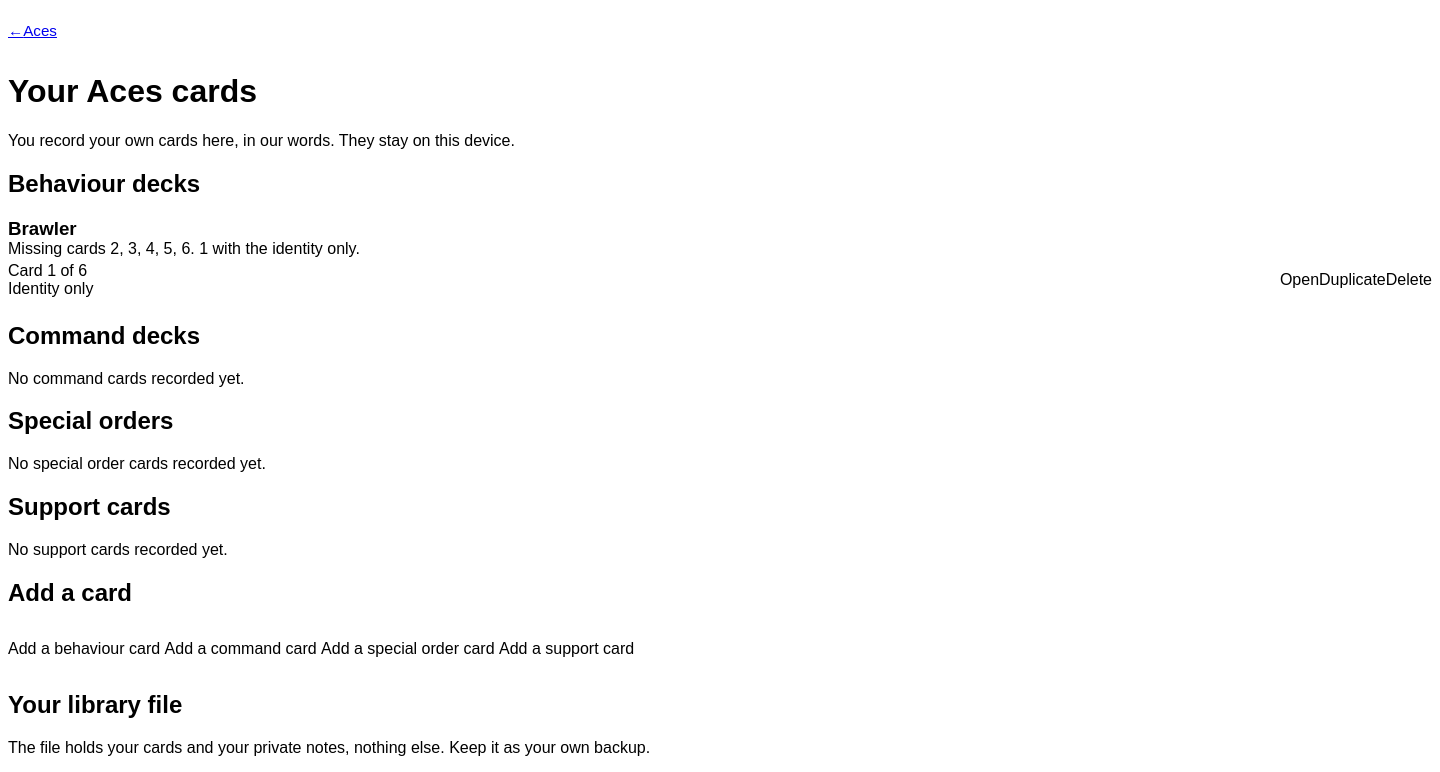
Test case: Aces card pages › asks before it deletes a card and keeps it when told to
The width and height of the screenshot is (1440, 772).
Click the button with aria-label "Delete Brawler card 1": [1409, 280] box x1=1386 y1=258 x2=1432 y2=302
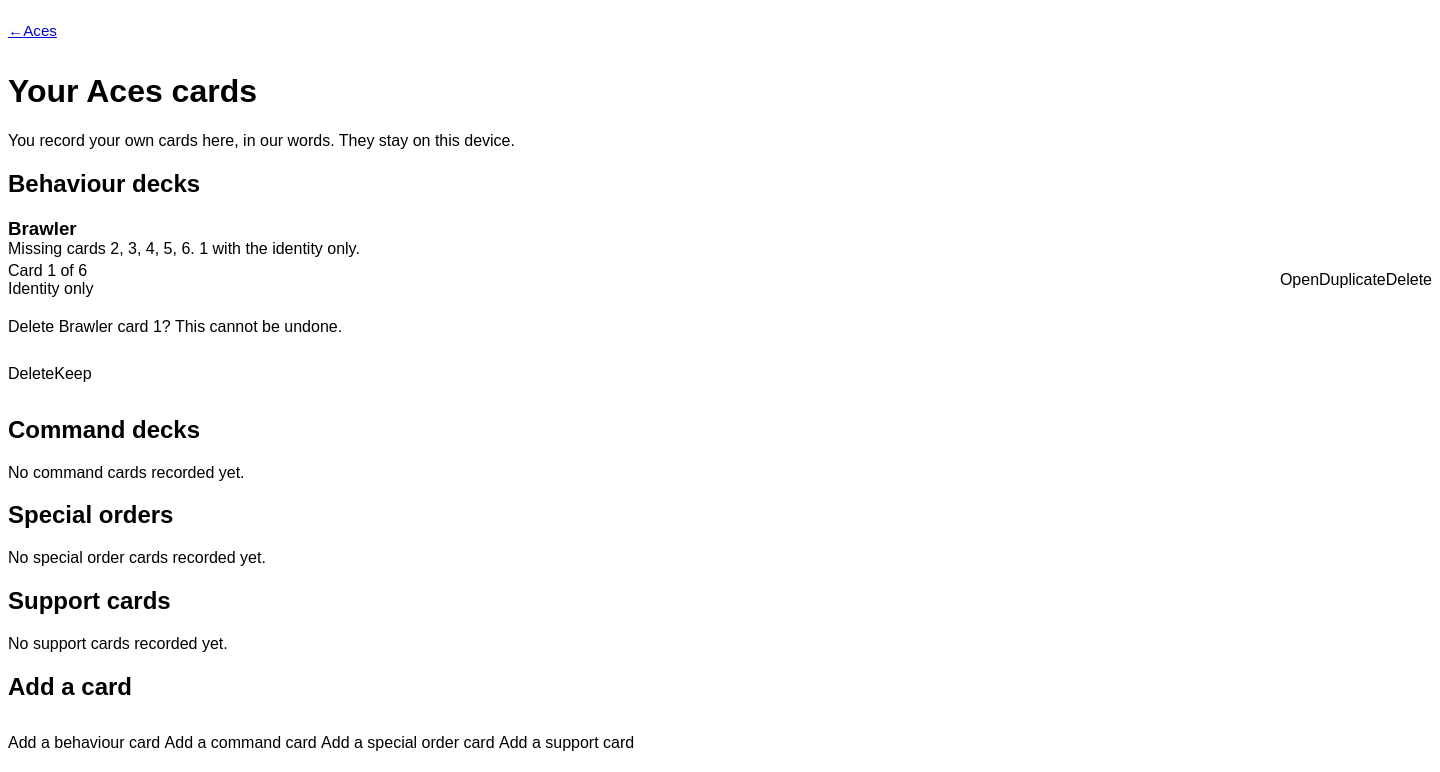
Click the button "Keep": [73, 374] box x1=54 y1=352 x2=92 y2=396
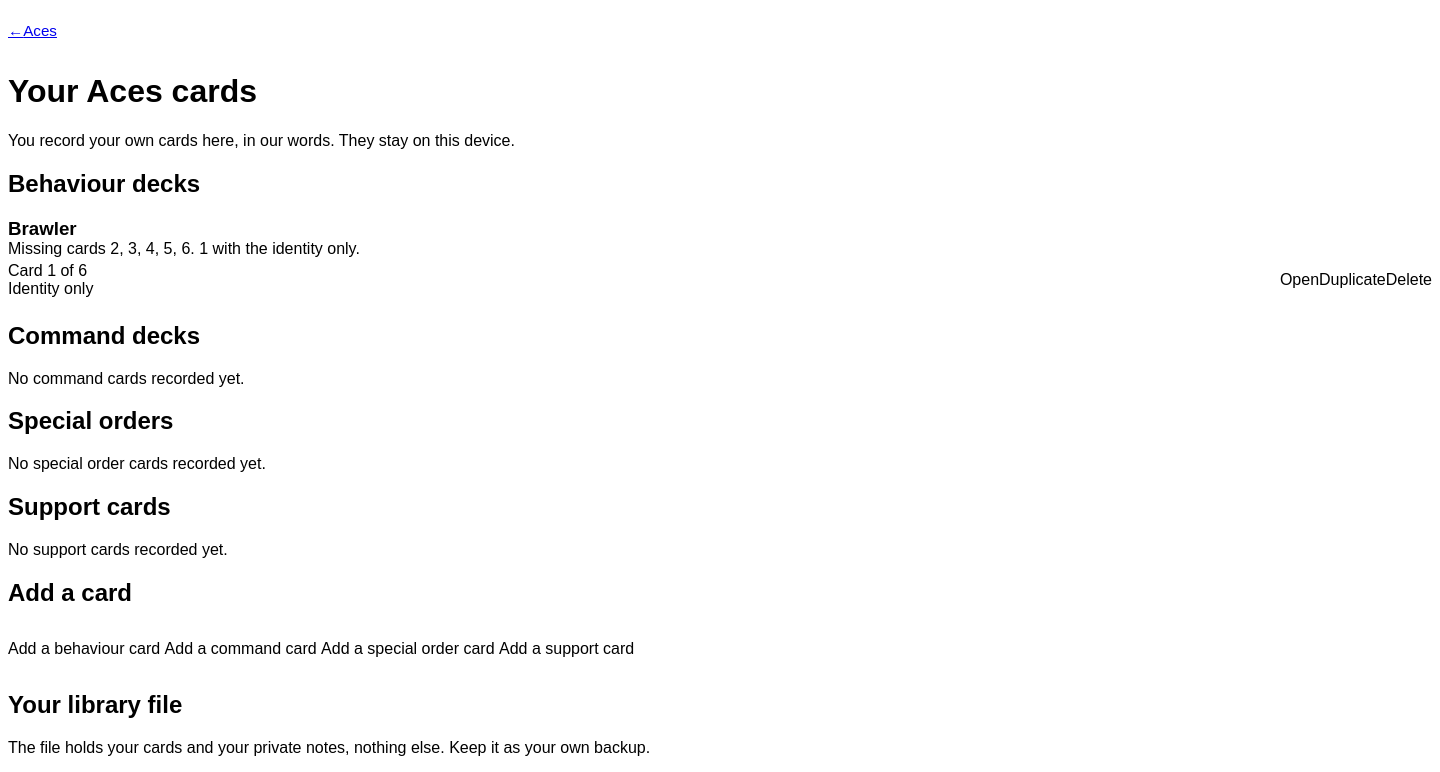
Click the button with aria-label "Delete Brawler card 1": [1409, 280] box x1=1386 y1=258 x2=1432 y2=302
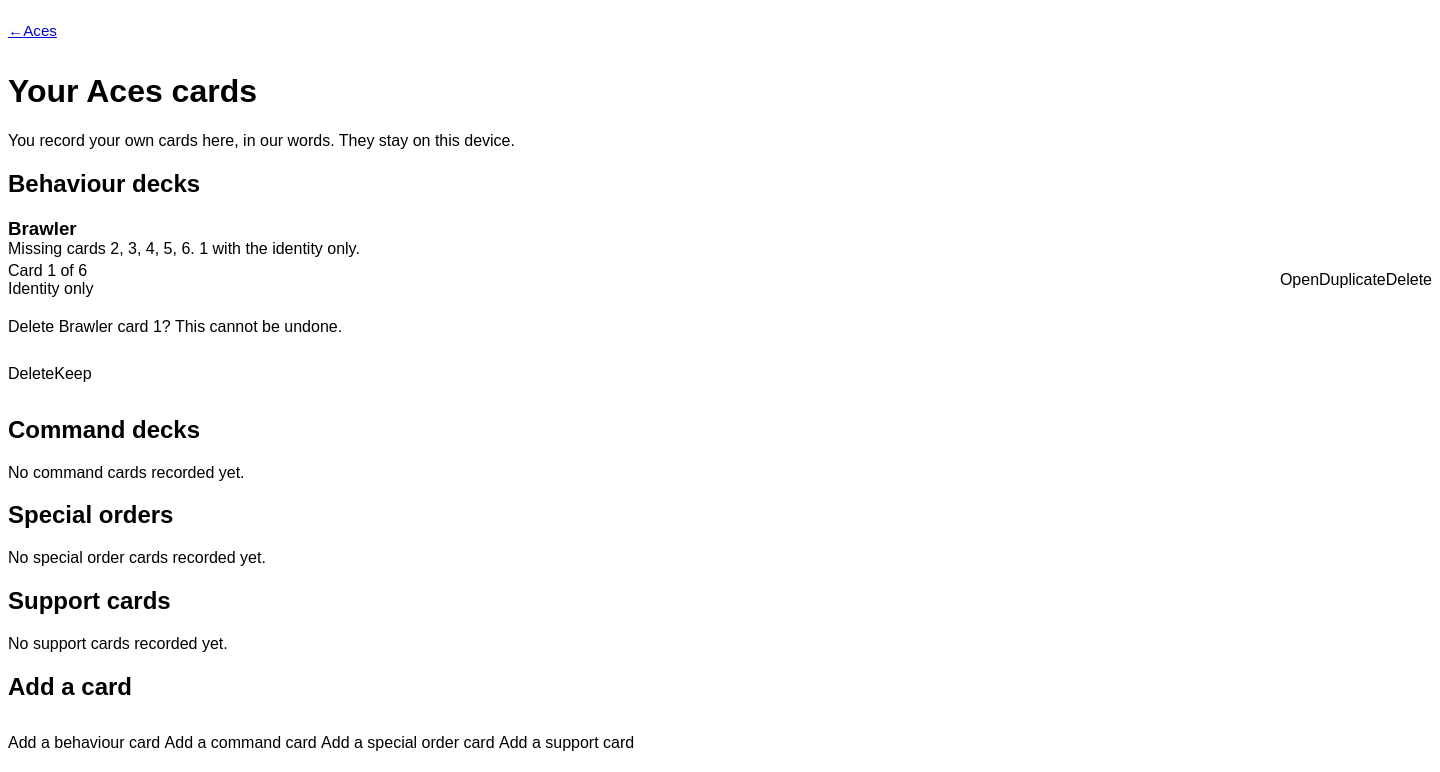
Click the 2nd button "Delete": [31, 374] box x1=8 y1=352 x2=54 y2=396
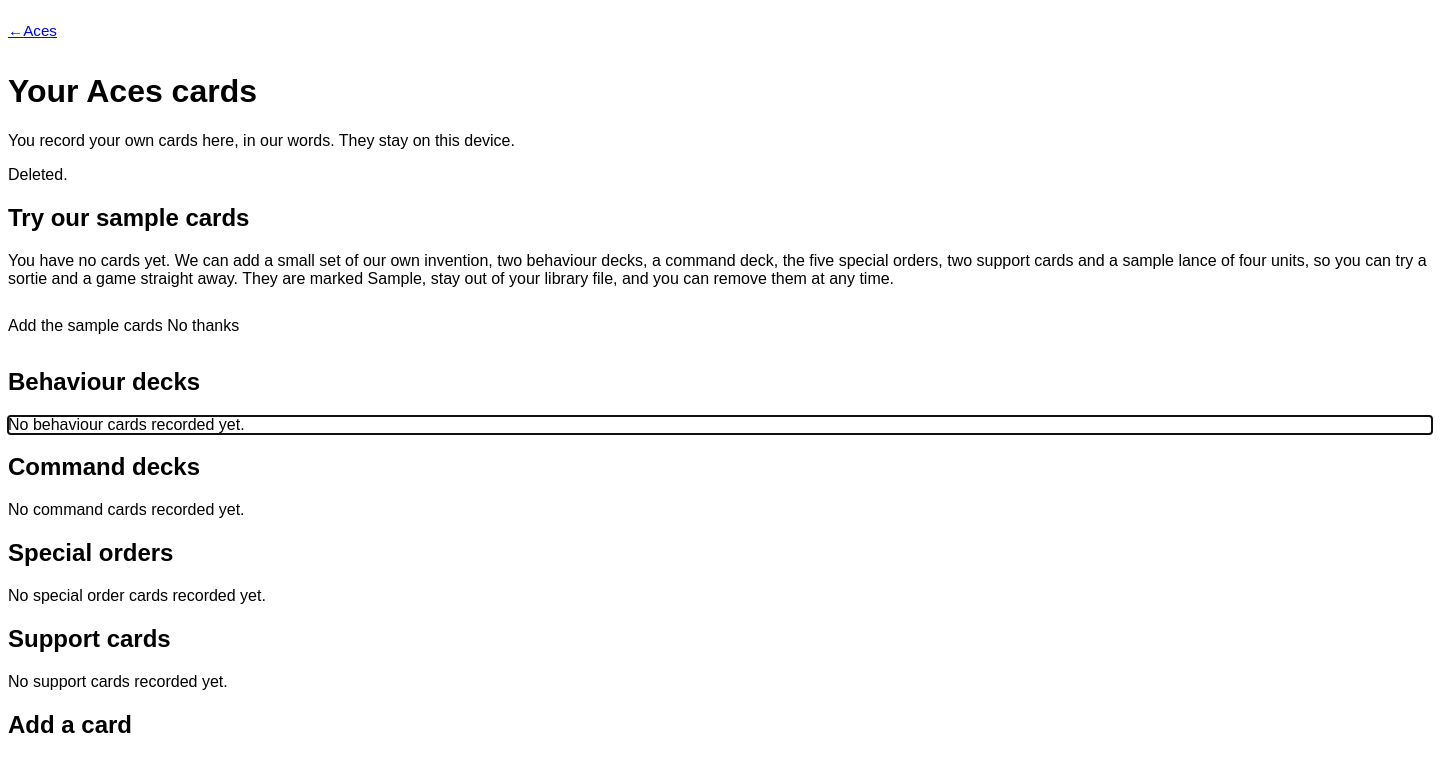
Now the text "No behaviour cards recorded yet." is shown, box x1=8 y1=416 x2=245 y2=432
